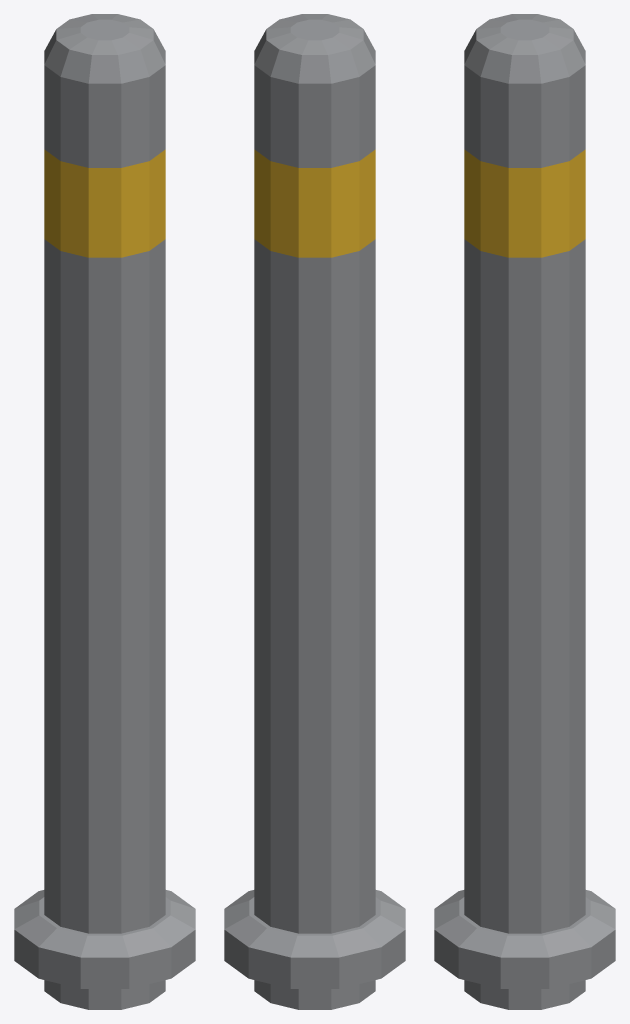
The model's file is SM_Street_Bollard_Fixed_01.gltf.
3 views of the same model, side by side, from view 1: azimuth 30°, elevation 25°; view 2: azimuth 150°, elevation 25°; view 3: azimuth 270°, elevation 25° (orthographic).
Visible parts, largest first — view 1: SM_Street_Bollard_Fixed_01; view 2: SM_Street_Bollard_Fixed_01; view 3: SM_Street_Bollard_Fixed_01.
Boxes of the visible parts, left/top/right/bottom form: SM_Street_Bollard_Fixed_01: left=14, top=14, right=195, bottom=1009; SM_Street_Bollard_Fixed_01: left=224, top=14, right=405, bottom=1009; SM_Street_Bollard_Fixed_01: left=434, top=14, right=615, bottom=1009.
Size of the model in its own units: 0.1464 by 0.85 by 0.1464.
Materials: 1 (1 with a texture image).
